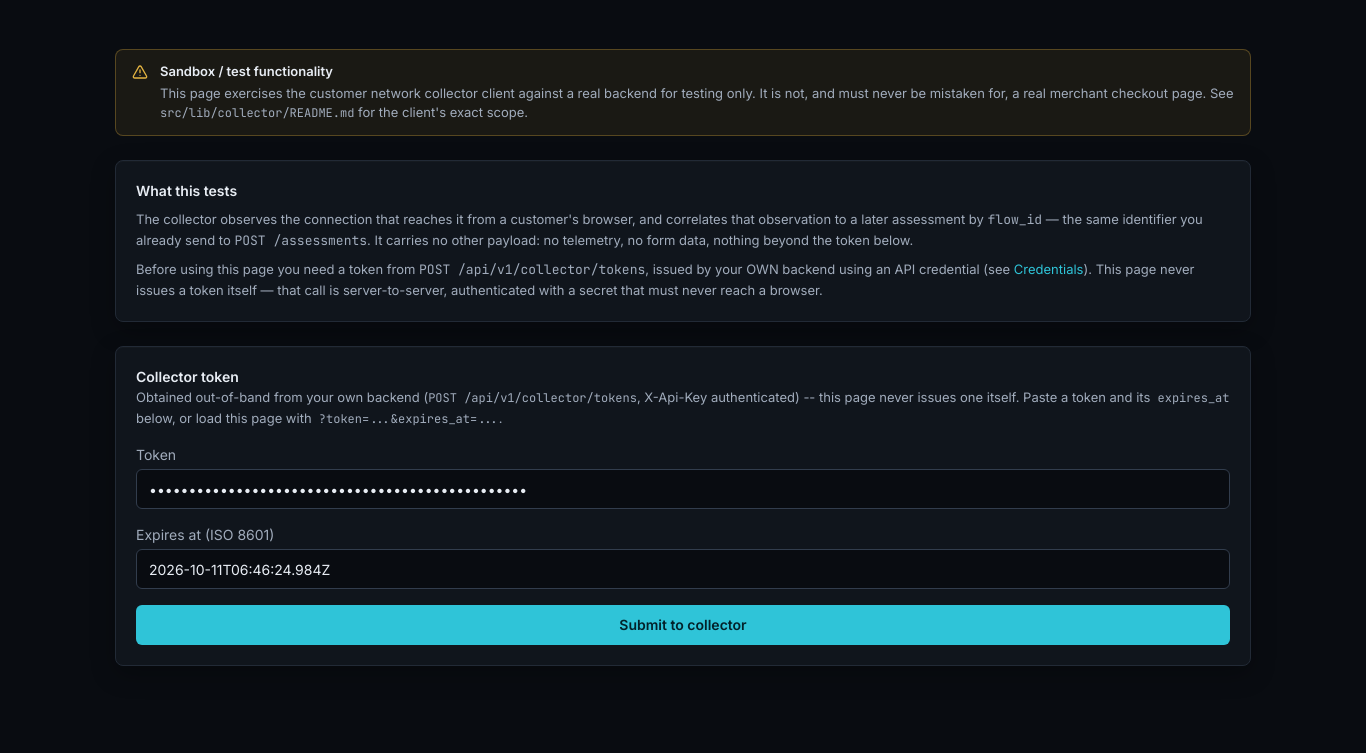
Scenario: Collector sandbox demo page (Wave 30 Phase 12/18) › Wave 32B: shows a human-readable title and explanation for a rate-limited outcome, including Retry-After
The image size is (1366, 753).
Step 1. Click the button with test id "collector-submit" → (683, 625), box [136,605,1230,645]
(page scrolled)
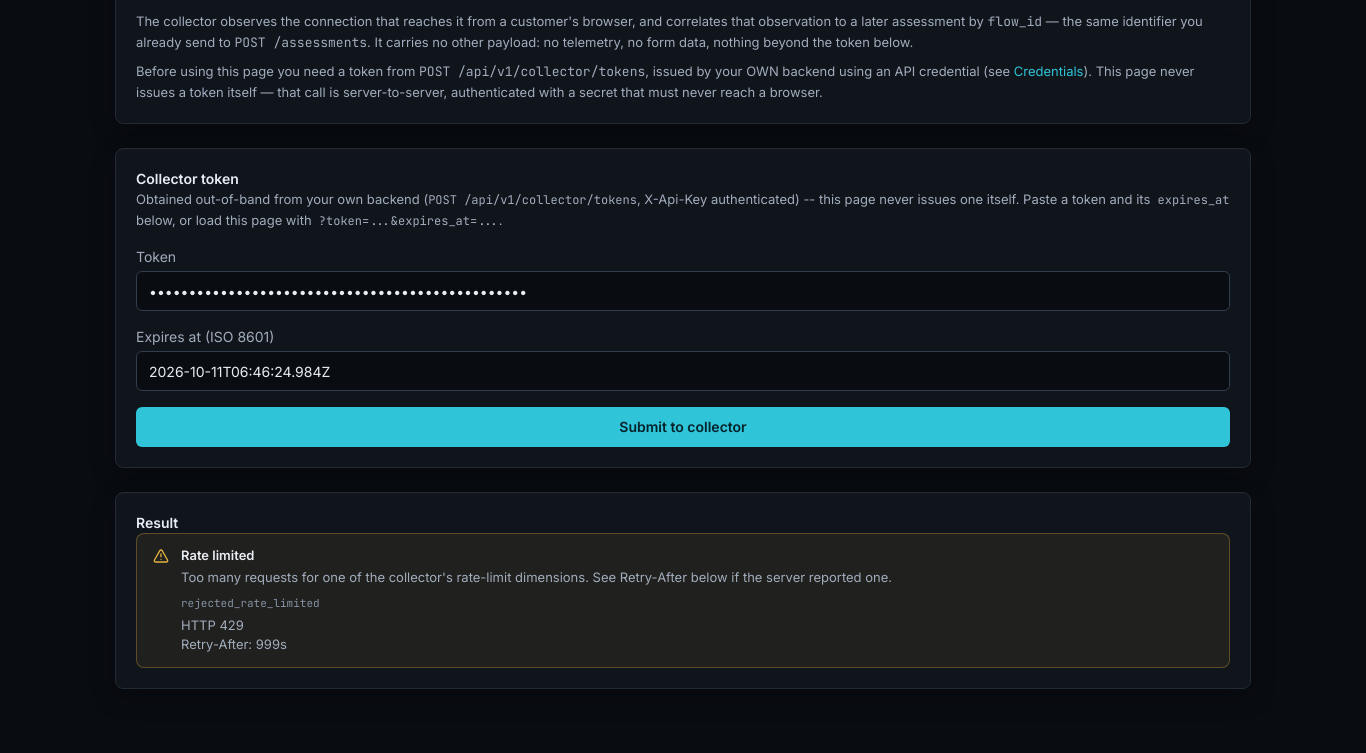
Expected: the text "Rate limited" is shown, [181,547,254,563]
Expected: the text "Retry-After: 999s" is shown, [181,636,287,652]
